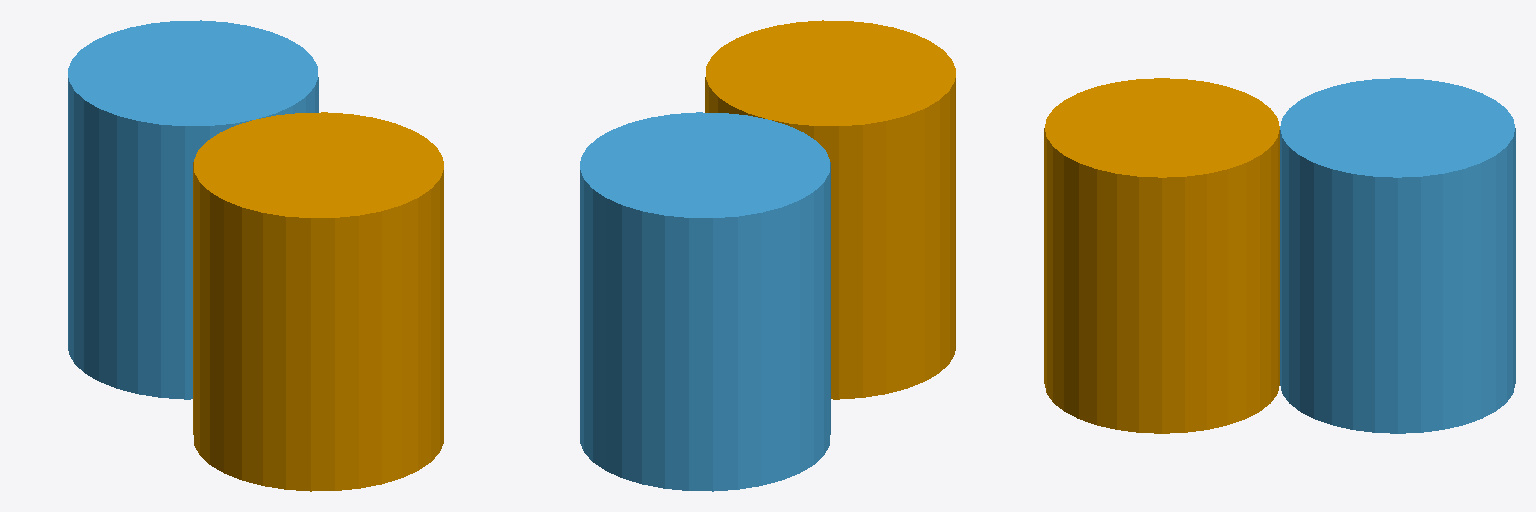
robot.urdf — myfirst:
<?xml version="1.0"?>
<robot name="myfirst">
    <link name="base_link">
        <visual>
            <geometry>
                <cylinder length="0.6" radius="0.25"/>
            </geometry>
        </visual>
        <collision>
            <geometry>
                <cylinder length="0.6" radius="0.25"/>
            </geometry>
        </collision>
        <inertial>
            <mass value="0.25"/>
            <inertia ixx="0.0003" iyy="0.0003" izz="0.0003" ixy="0" ixz="0" iyz="0"/>
        </inertial>
    </link>

    <link name="sub_link">
        <visual>
            <geometry>
                <cylinder length="0.6" radius="0.25"/>
            </geometry>
        </visual>

        <collision>
            <geometry>
                <cylinder length="0.6" radius="0.25"/>
            </geometry>
        </collision>

        <inertial>
            <mass value="0.25"/>
            <inertia ixx="0.0003" iyy="0.0003" izz="0.0003" ixy="0" ixz="0" iyz="0"/>
        </inertial>
    </link>

    <joint name="base_to_sub" type="revolute">
        <parent link="base_link"/>
        <child link="sub_link"/>
        <axis xyz="1 0 0"/>
        <limit effort="10" upper="0" lower="10" velocity="1"/>
        <origin rpy="0 0 0" xyz="0 0.5 0"/>
    </joint>
</robot>

--- Facts derived from the render (not from the file) ---
The picture shows the robot from 3 angles, left to right: view 1: azimuth 30°, elevation 25°; view 2: azimuth 150°, elevation 25°; view 3: azimuth 270°, elevation 25°; orthographic projection.
Robot: myfirst — 2 links, 1 joints (1 revolute); root link base_link; default pose: all joints at 0.
Visible links, largest first — view 1: base_link, sub_link; view 2: sub_link, base_link; view 3: base_link, sub_link.
Link boxes in pixels (x1,y1,x2,y2): base_link: (193, 112, 443, 491); sub_link: (68, 20, 318, 399); sub_link: (580, 112, 830, 491); base_link: (705, 20, 955, 399); base_link: (1044, 78, 1279, 433); sub_link: (1280, 78, 1515, 433).
Bounding box of the posed robot: 0.5 × 1 × 0.6 m (x, y, z).
Geometry: primitives only (box / cylinder / sphere), no mesh files.
